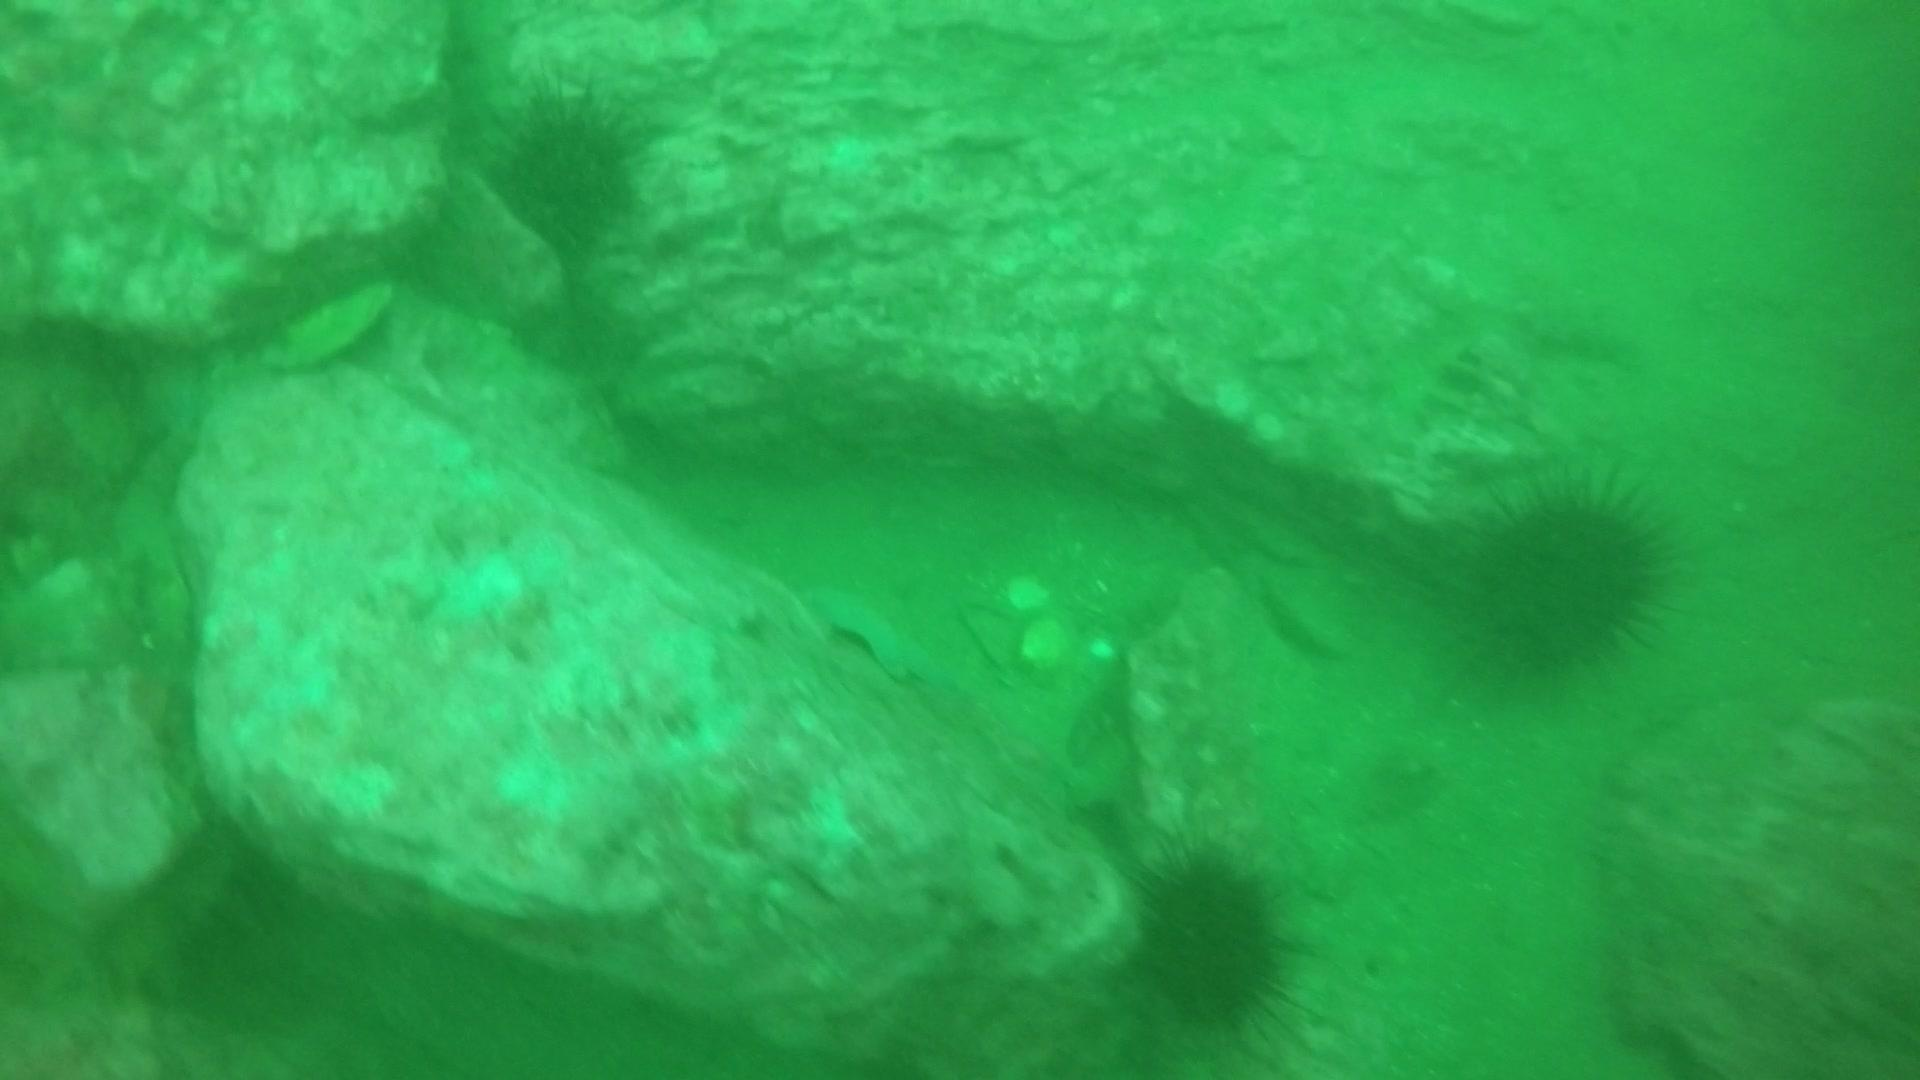echinus: (1440, 465, 1688, 698), (1120, 837, 1308, 1036), (483, 76, 651, 257)
scallop: (245, 260, 404, 377)
starfish: (802, 576, 963, 695)
